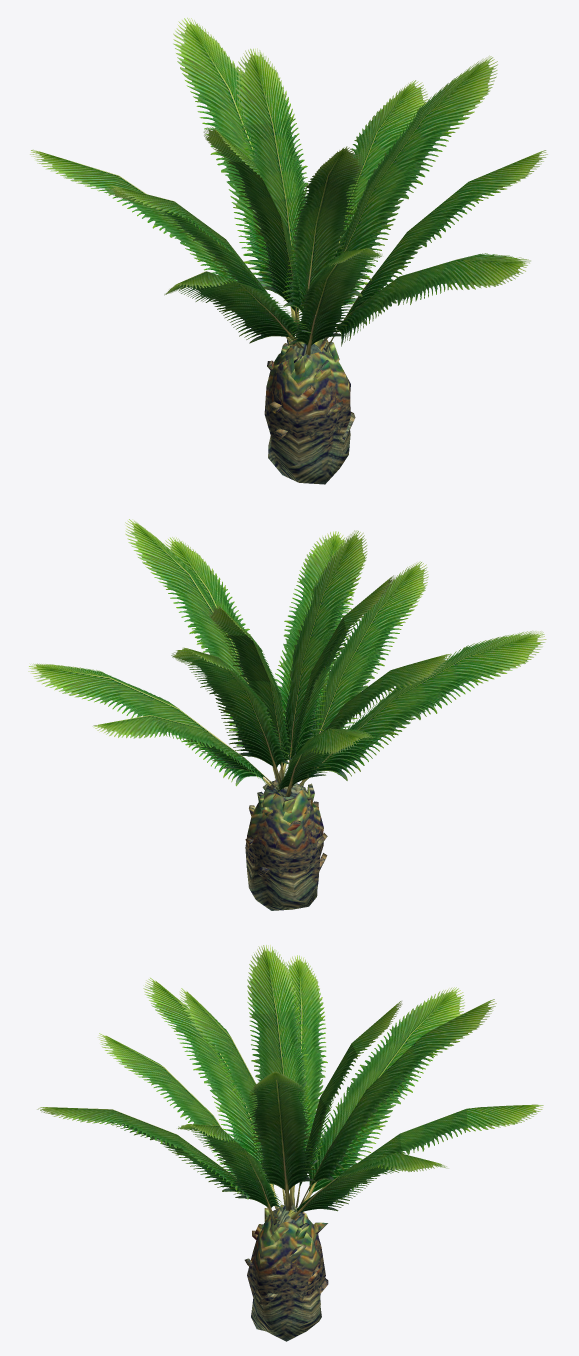
Rendered from sago-palm.glb.
3 views of the same model, one above another, from view 1: azimuth 30°, elevation 25°; view 2: azimuth 150°, elevation 25°; view 3: azimuth 270°, elevation 25° (orthographic). The views are drawn at different scales.
Visible parts, largest first — view 1: Trunk, Leaf.009, Leaf, Leaf.001, Leaf.010, Leaf.008, Leaf.003, Leaf.012, Leaf.004, Leaf.006, Leaf.002, Leaf.005 (+2 smaller); view 2: Leaf.006, Trunk, Leaf.010, Leaf.004, Leaf.001, Leaf.009, Leaf.002, Leaf, Leaf.008, Leaf.011, Leaf.012, Leaf.005 (+3 smaller); view 3: Trunk, Leaf.005, Leaf.012, Leaf.009, Leaf.001, Leaf.006, Leaf.007, Leaf.011, Leaf.008, Leaf.003, Leaf.004, Leaf.002 (+3 smaller).
Boxes of the visible parts, bbox=[...] form: Trunk: bbox=[264, 338, 350, 484]; Leaf.009: bbox=[335, 55, 497, 296]; Leaf: bbox=[235, 48, 309, 336]; Leaf.001: bbox=[173, 17, 295, 334]; Leaf.010: bbox=[282, 146, 363, 312]; Leaf.008: bbox=[321, 253, 530, 346]; Leaf.003: bbox=[325, 150, 547, 351]; Leaf.012: bbox=[203, 127, 303, 324]; Leaf.004: bbox=[288, 248, 382, 355]; Leaf.006: bbox=[164, 271, 310, 348]; Leaf.002: bbox=[336, 80, 428, 306]; Leaf.005: bbox=[30, 149, 292, 345]; Leaf.006: bbox=[299, 630, 546, 786]; Trunk: bbox=[245, 778, 323, 910]; Leaf.010: bbox=[283, 530, 367, 765]; Leaf.004: bbox=[301, 561, 428, 786]; Leaf.001: bbox=[171, 647, 289, 789]; Leaf.009: bbox=[125, 519, 276, 778]; Leaf.002: bbox=[28, 663, 271, 786]; Leaf: bbox=[208, 605, 292, 788]; Leaf.008: bbox=[274, 531, 354, 777]; Leaf.011: bbox=[93, 715, 279, 789]; Leaf.012: bbox=[290, 575, 395, 761]; Leaf.005: bbox=[273, 728, 373, 797]; Trunk: bbox=[247, 1206, 325, 1341]; Leaf.005: bbox=[302, 987, 464, 1203]; Leaf.012: bbox=[247, 945, 312, 1206]; Leaf.009: bbox=[247, 1071, 316, 1210]; Leaf.001: bbox=[299, 999, 496, 1206]; Leaf.006: bbox=[143, 977, 278, 1209]; Leaf.007: bbox=[286, 955, 327, 1195]; Leaf.011: bbox=[335, 1104, 543, 1203]; Leaf.008: bbox=[37, 1107, 279, 1218]; Leaf.003: bbox=[178, 1124, 283, 1223]; Leaf.004: bbox=[97, 1033, 270, 1214]; Leaf.002: bbox=[290, 1152, 448, 1219].
Bounding box in the file's own units: 3.13 × 2.49 × 3.62.
Materials: 2 (2 with a texture image).
